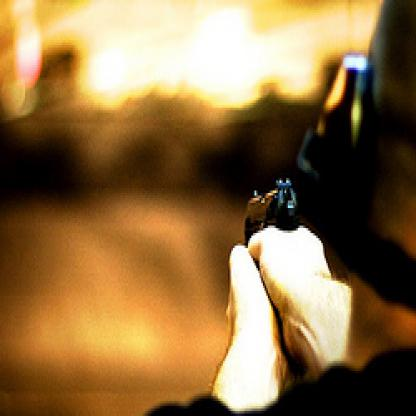gun: (221, 163, 306, 261)
